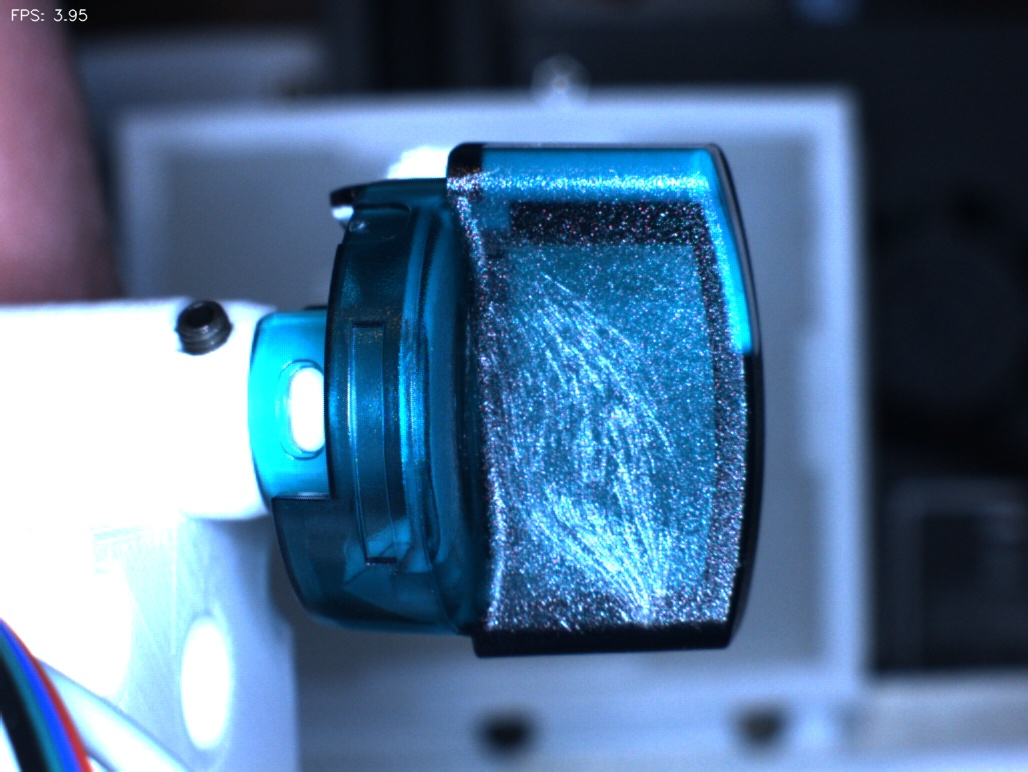Givrage: (486, 263, 703, 625)
